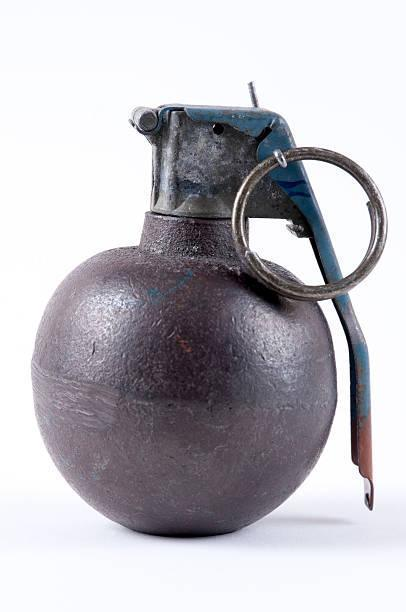Grenade: (29, 81, 388, 540)
